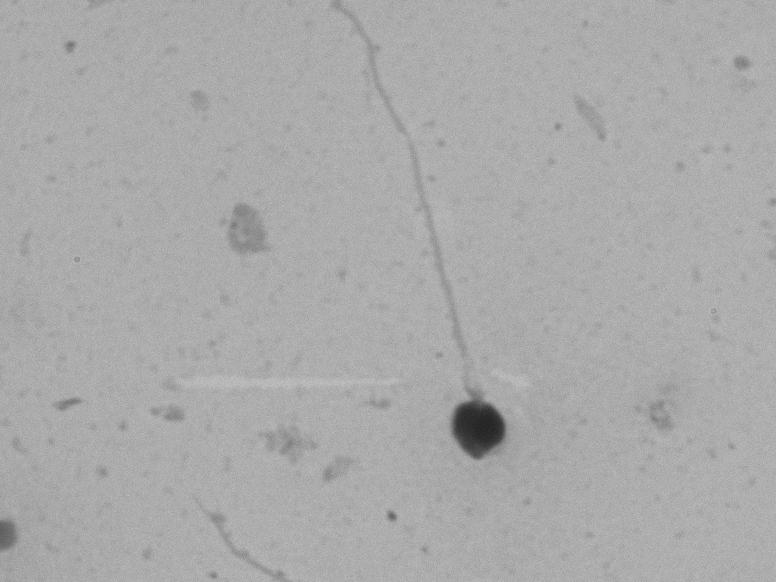Abnormal: (326, 33, 546, 505)
